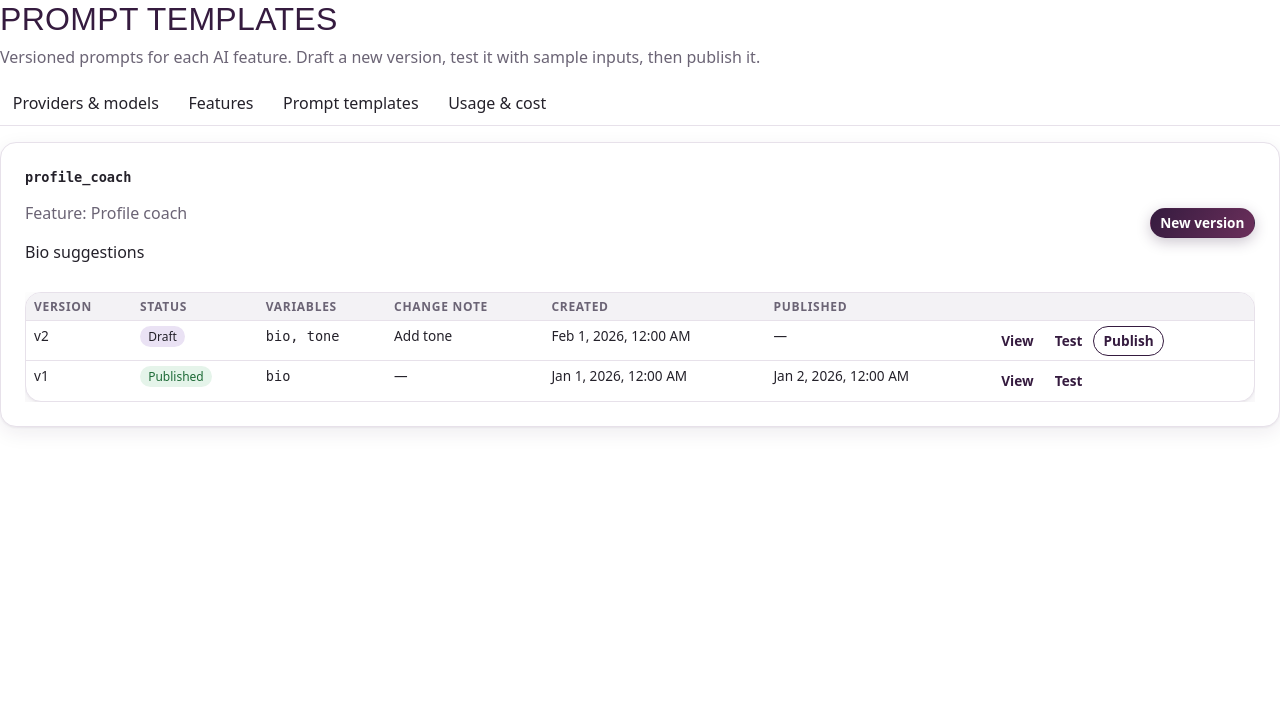
Test case: PromptsPage › test-runs a version with sample variables and shows the result
The image size is (1280, 720).
Click the button "Test" in the row of "v2" at x=1069, y=341, box [1044,326,1093,356]
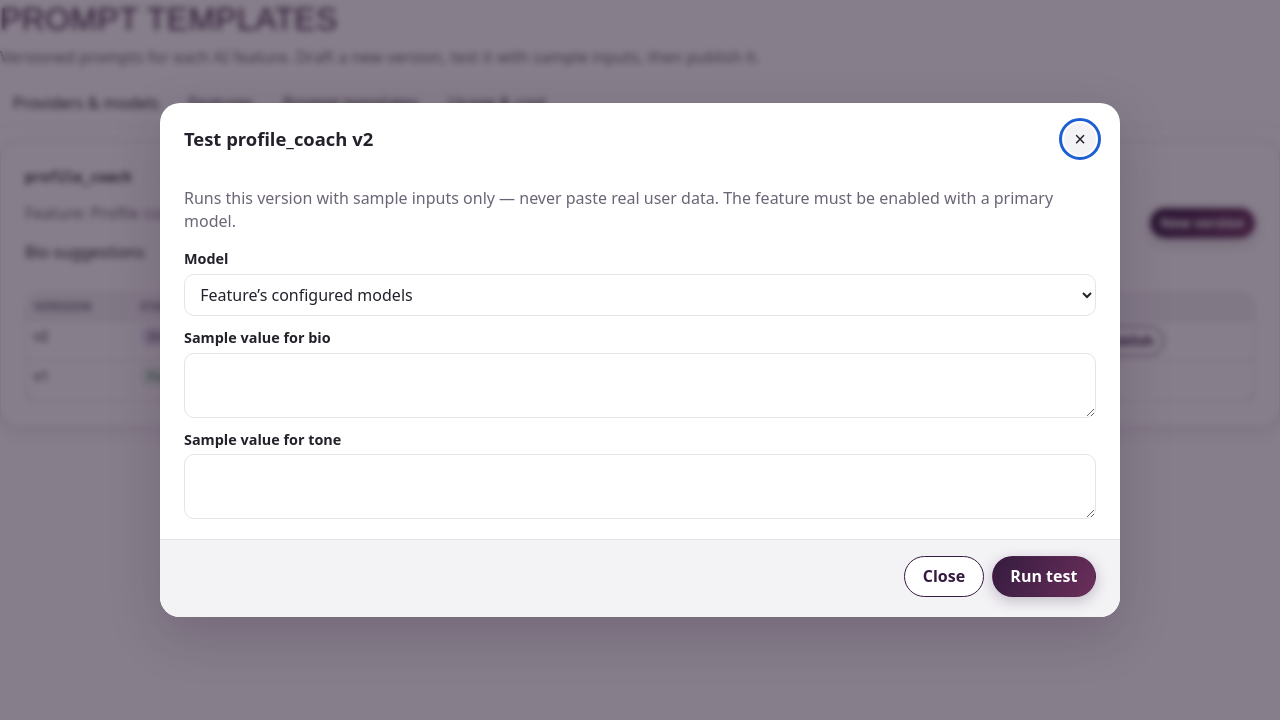
Type "I like hiking" into the text box labelled "Sample value for bio" at x=640, y=385, box [184,353,1096,418]
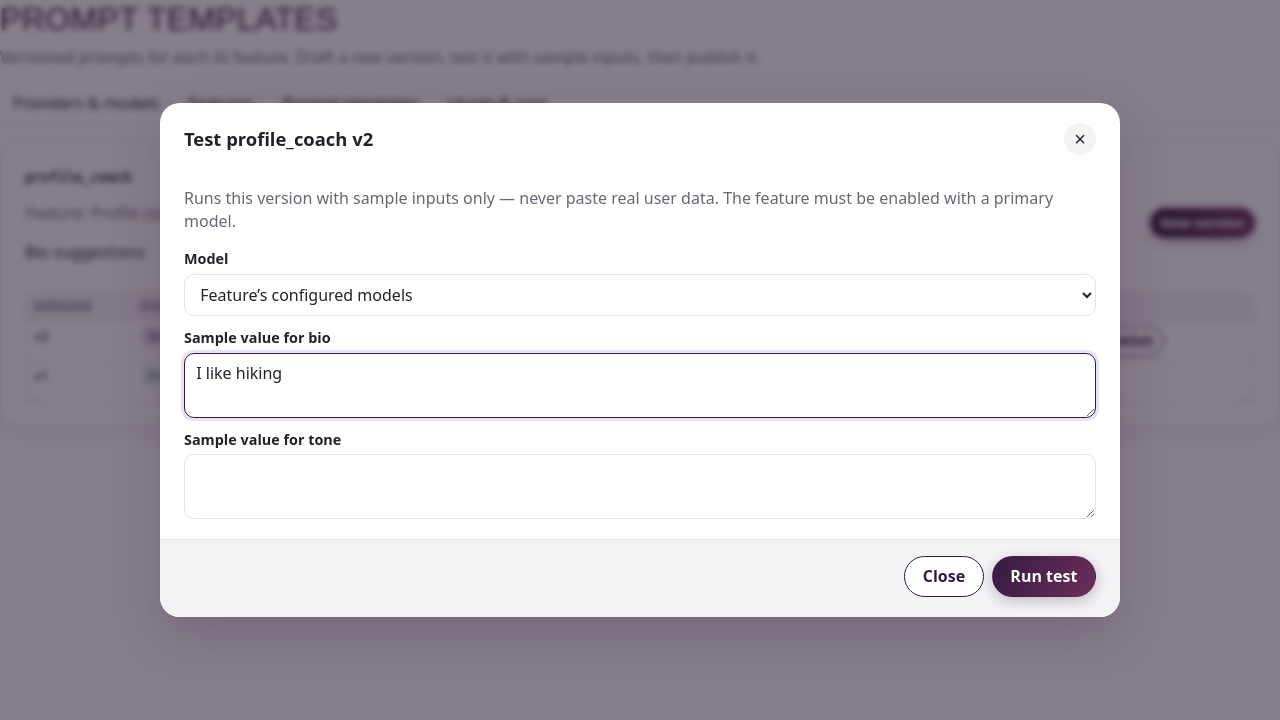
Select "openai / gpt-main" in the dropdown labelled "Model" at x=640, y=295, box [184,274,1096,316]
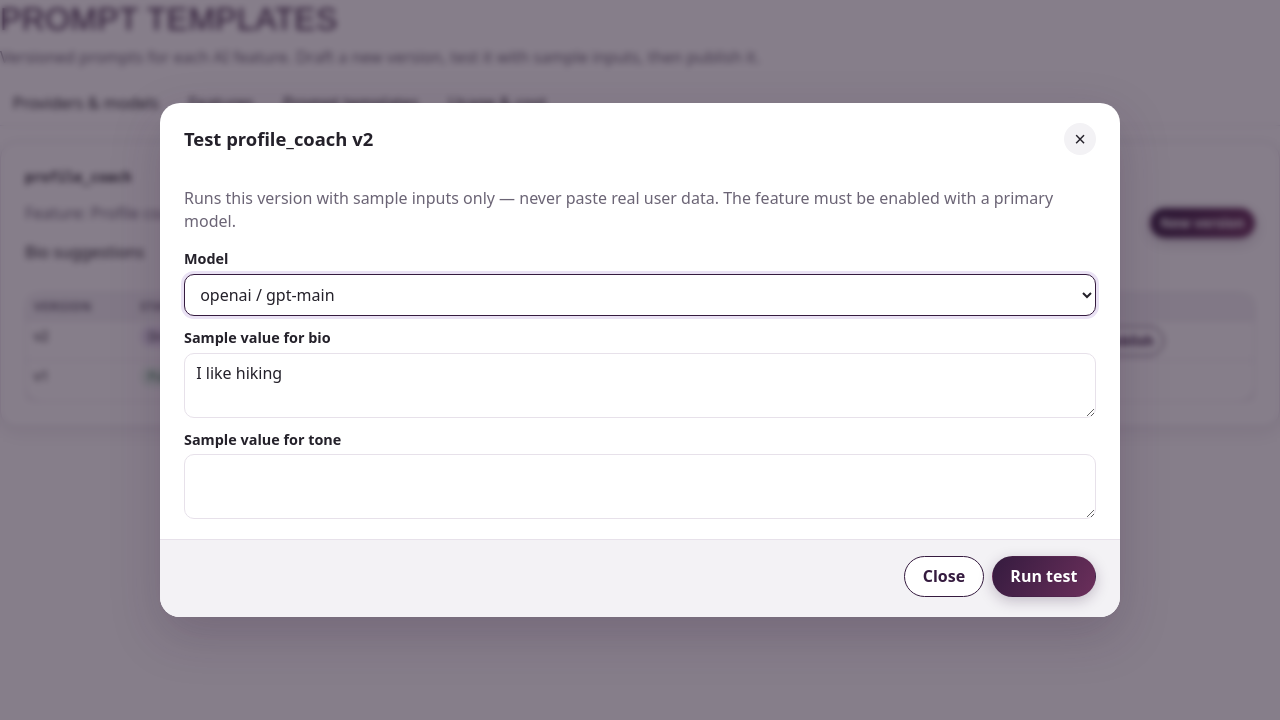
Click the button "Run test" at x=1044, y=576, box [992,556,1096,597]
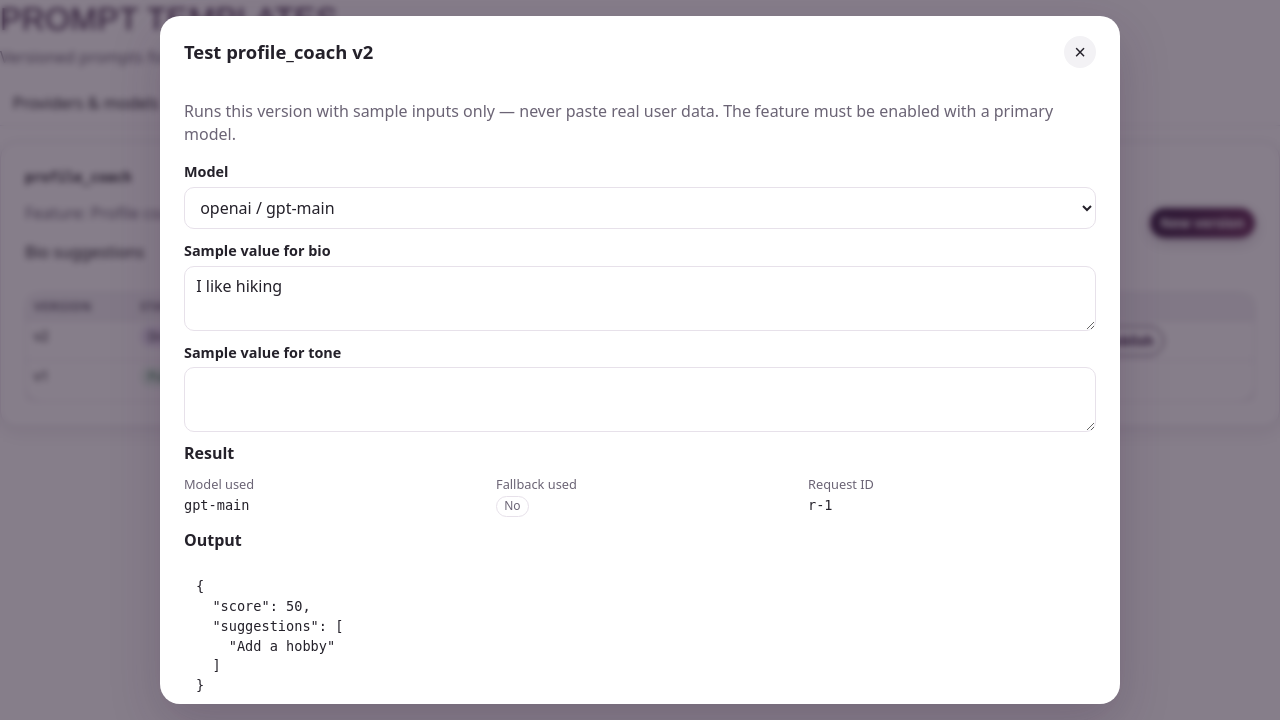
Expected: the text "{ \"score\": 50, \"suggestions\": [ \"Add a hobby\" ] }" is shown, [196,578,343,693]
Expected: the text "gpt-main" is shown, [184,498,250,514]
Expected: the text "r-1" is shown, [808,498,833,514]
